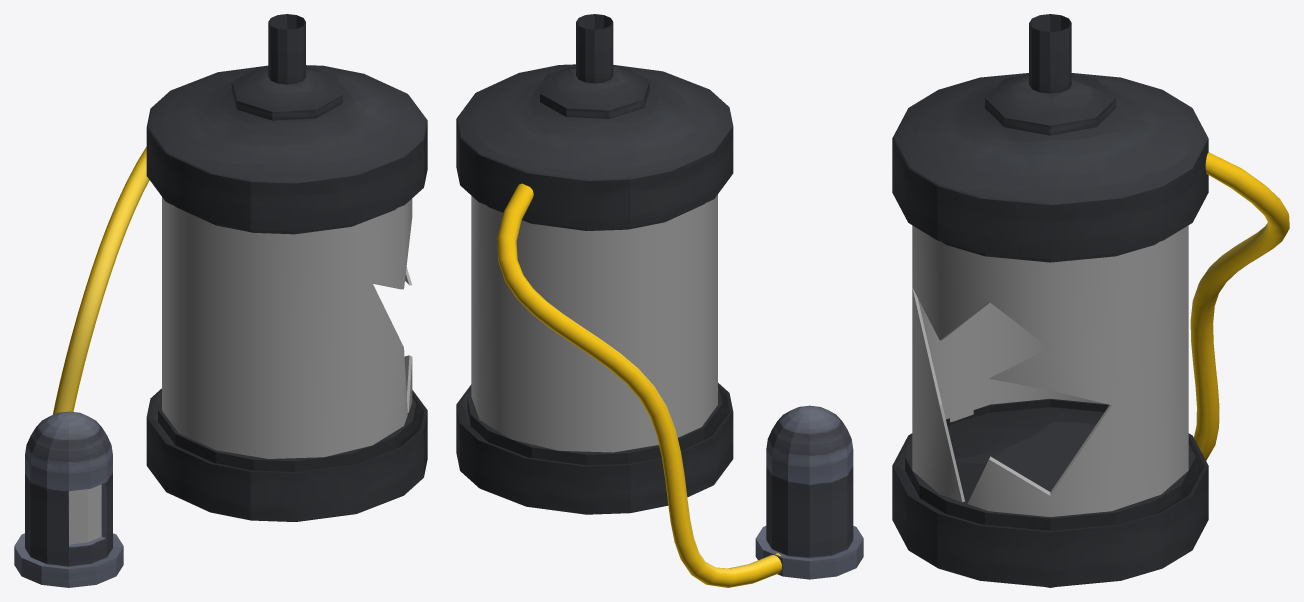
Rendered from TestContainer_.fbx.
The picture shows the model from 3 angles, left to right: view 1: azimuth 30°, elevation 25°; view 2: azimuth 150°, elevation 25°; view 3: azimuth 270°, elevation 25°; orthographic projection. The views are drawn at different scales.
Visible parts, largest first — view 1: polySurface11, polySurface3, polySurface1, polySurface12, pCylinder7, polySurface5, polySurface13; view 2: polySurface11, polySurface3, polySurface1, polySurface12, pCylinder7, polySurface5; view 3: polySurface11, polySurface3, polySurface1, pCylinder7, polySurface5.
Boxes of the visible parts, <box> form: polySurface11: <box>162,197,412,458</box>; polySurface3: <box>146,65,427,234</box>; polySurface1: <box>146,388,427,521</box>; polySurface12: <box>14,411,123,587</box>; pCylinder7: <box>52,147,149,414</box>; polySurface5: <box>268,14,305,84</box>; polySurface13: <box>69,484,101,544</box>; polySurface11: <box>471,194,717,452</box>; polySurface3: <box>456,64,733,230</box>; polySurface1: <box>456,383,733,514</box>; polySurface12: <box>755,405,863,579</box>; pCylinder7: <box>497,183,781,587</box>; polySurface5: <box>576,14,613,83</box>; polySurface11: <box>912,225,1188,516</box>; polySurface3: <box>892,73,1208,262</box>; polySurface1: <box>892,398,1208,587</box>; pCylinder7: <box>1190,152,1289,460</box>; polySurface5: <box>1029,14,1071,93</box>.
Size of the model in its own units: 355 by 432 by 279.
Materials: 2 (1 with a texture image).
